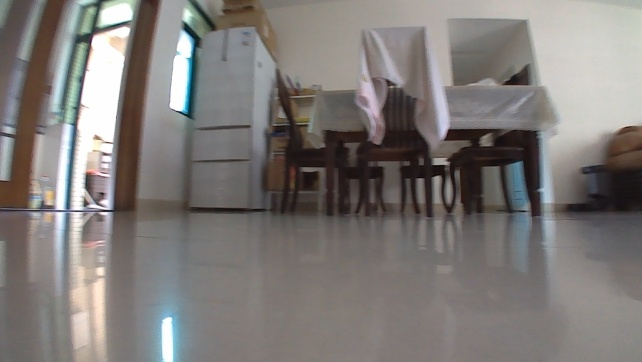dining_table: (274, 22, 559, 218)
refrigerator: (185, 25, 278, 212)
